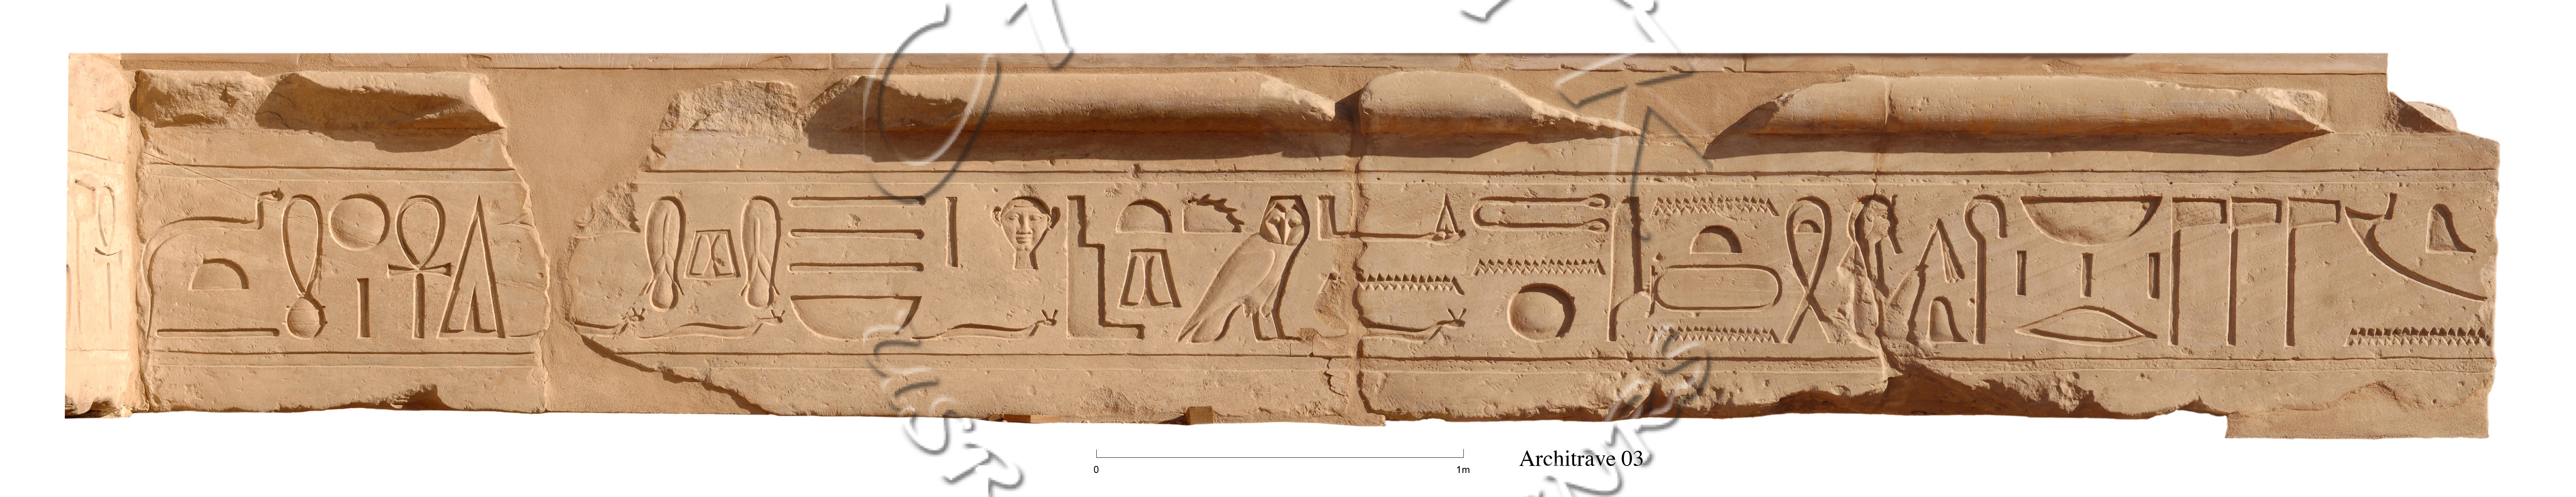D21: (2008, 279, 2167, 362)
G17: (1163, 174, 1331, 362)
I10: (136, 164, 292, 317)
N35: (2333, 302, 2496, 369), (1327, 256, 1470, 321), (1470, 235, 1608, 302), (1643, 182, 1786, 246), (1640, 312, 1796, 366)
V30: (2004, 172, 2177, 264), (774, 277, 930, 361)
X8: (421, 176, 536, 356)
